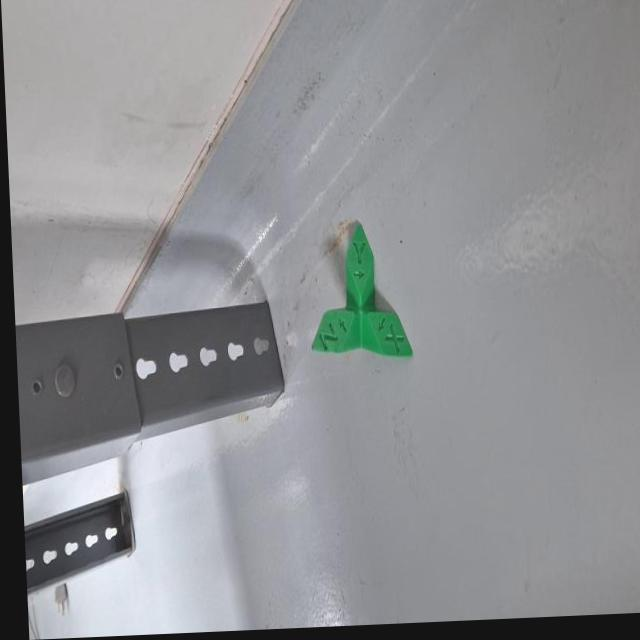eje: (300, 209, 417, 387)
